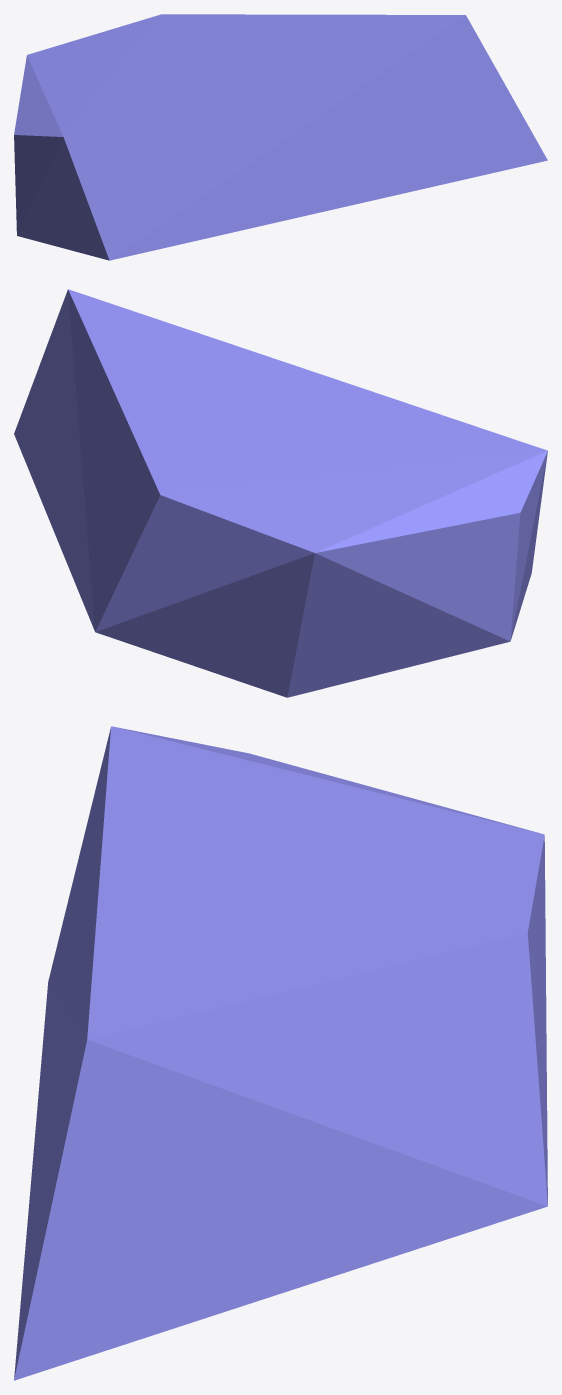
Rendered from Rock_10_Collider_01.FBX.
3 renders of one model, top to bottom at view 1: azimuth 30°, elevation 25°; view 2: azimuth 150°, elevation 25°; view 3: azimuth 270°, elevation 25°, orthographic. The views are drawn at different scales.
Parts seen in each view (by area): view 1: COLLIDER1; view 2: COLLIDER1; view 3: COLLIDER1.
Part boxes in pixels (x1=…): COLLIDER1: x1=14, y1=14, x2=547, y2=260; COLLIDER1: x1=14, y1=289, x2=547, y2=697; COLLIDER1: x1=14, y1=726, x2=547, y2=1380.
Size of the model in its own units: 52.98 by 19.88 by 27.
